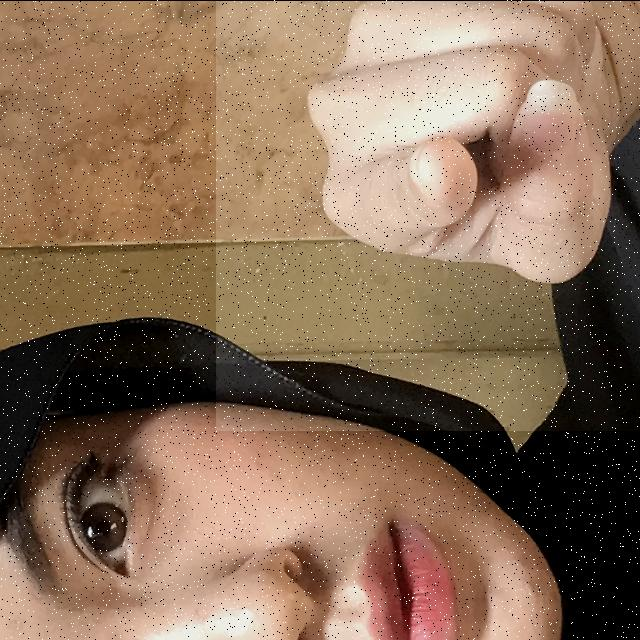kamu: (216, 0, 640, 430)
